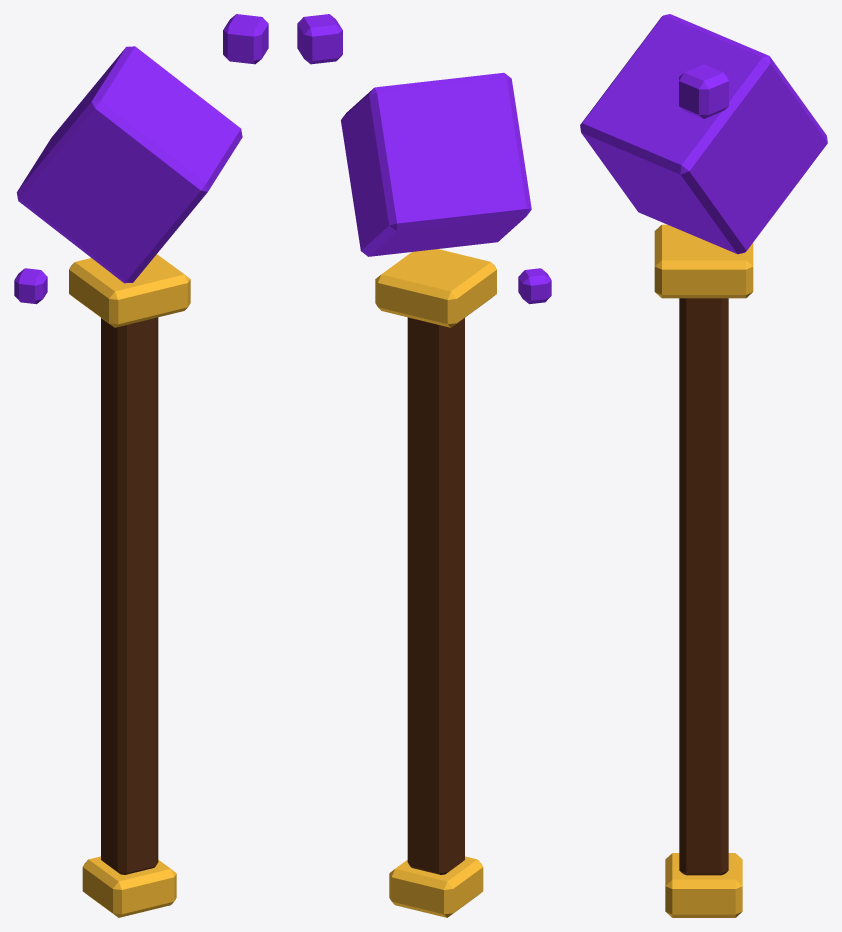
File: Hero_Stick.obj
The picture shows the model from 3 angles, left to right: view 1: azimuth 30°, elevation 25°; view 2: azimuth 150°, elevation 25°; view 3: azimuth 270°, elevation 25°; orthographic projection. The views are drawn at different scales.
Visible parts, largest first — view 1: Hero_Stick; view 2: Hero_Stick; view 3: Hero_Stick.
Part boxes in pixels (left/top/right/bottom): Hero_Stick: left=14, top=14, right=268, bottom=917; Hero_Stick: left=297, top=14, right=551, bottom=917; Hero_Stick: left=580, top=14, right=827, bottom=917.
Size of the model in its own units: 0.4301 by 1.4 by 0.3527.
